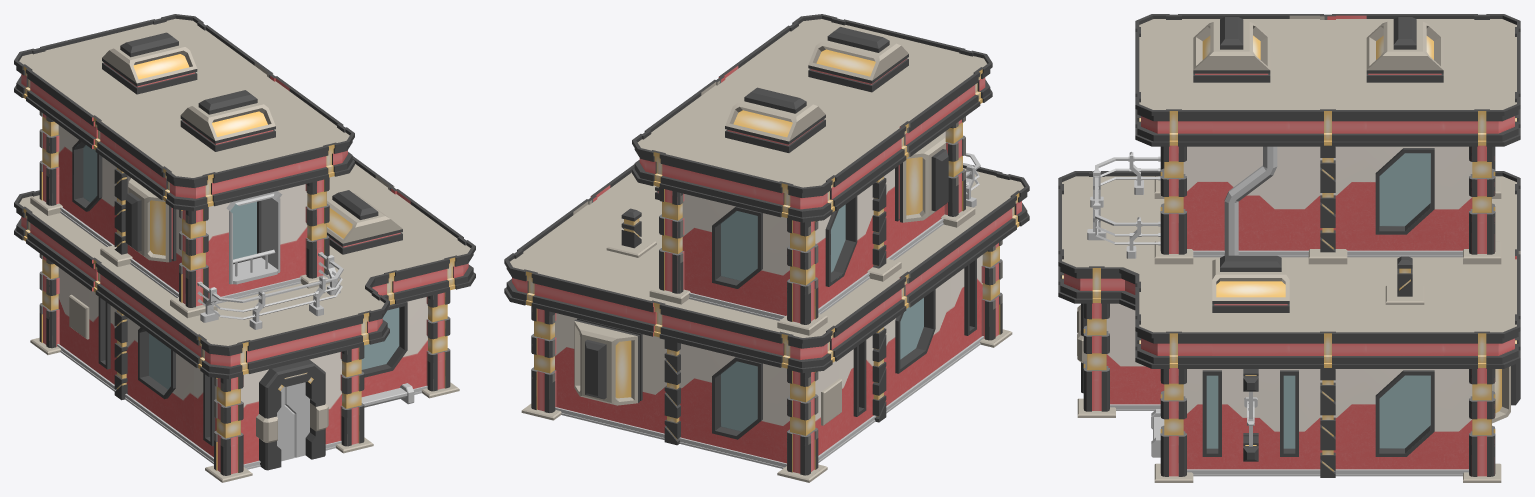
The model's file is RTS-房子.fbx.
The picture shows the model from 3 angles, left to right: view 1: azimuth 30°, elevation 25°; view 2: azimuth 150°, elevation 25°; view 3: azimuth 270°, elevation 25°; orthographic projection. The views are drawn at different scales.
Visible parts, largest first — view 1: pillarSmallAEnd8; view 2: pillarSmallAEnd8; view 3: pillarSmallAEnd8.
Part boxes in pixels (<box>): pillarSmallAEnd8: <box>14,14,475,482</box>; pillarSmallAEnd8: <box>504,14,1029,482</box>; pillarSmallAEnd8: <box>1058,14,1520,482</box>.
Bounding box in the file's own units: 1000 × 1000 × 1200.
